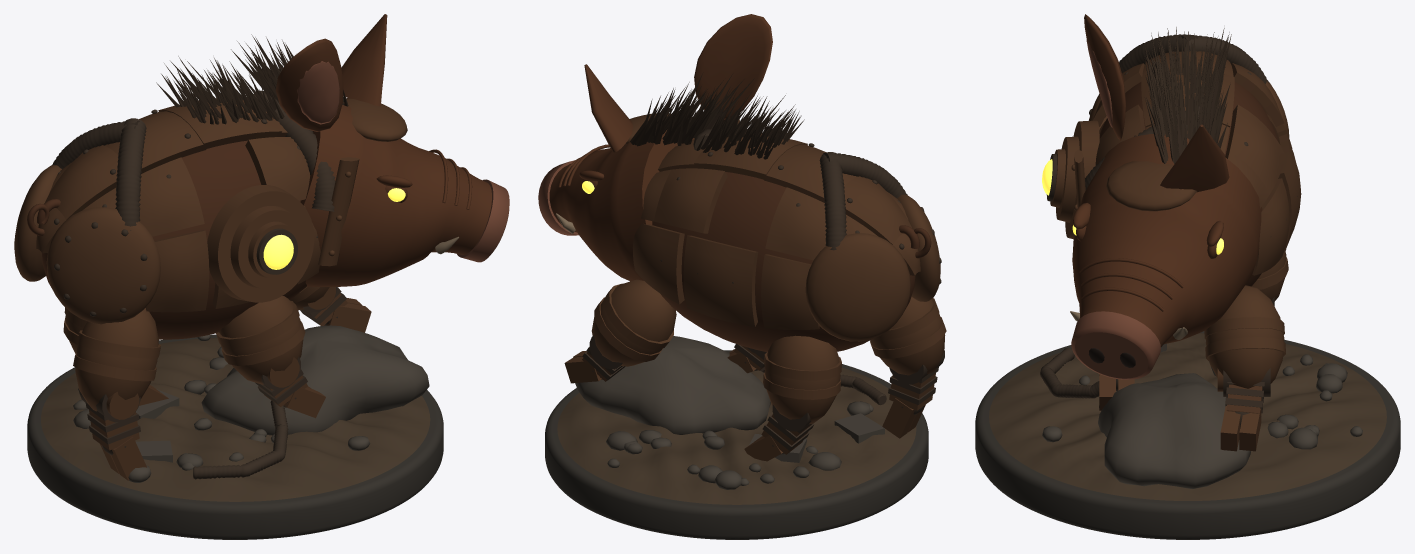
The picture shows the model from 3 angles, left to right: view 1: azimuth 30°, elevation 25°; view 2: azimuth 150°, elevation 25°; view 3: azimuth 270°, elevation 25°; orthographic projection. The views are drawn at different scales.
Parts seen in each view (by area): view 1: Base_Earth_Terrain, Back_And_Flank_Armor_Plates, Base_Round_Plinth, Boar_Head, Large_Rock_Under_Front_Legs, Rear_Haunch_Round_Plate, Flank_Core_Housing, Leg_Rear_Near_Armor, Boar_Body_Core, Leg_Front_Near_Armor, Corrugated_Body_Hoses, Bristle_Mane (+16 smaller); view 2: Back_And_Flank_Armor_Plates, Base_Earth_Terrain, Base_Round_Plinth, Large_Rock_Under_Front_Legs, Boar_Head, Rear_Haunch_Round_Plate_Far, Boar_Body_Core, Bristle_Mane, Leg_Rear_Far_Armor, Leg_Front_Far_Armor, Near_Ear, Leg_Rear_Near_Armor (+10 smaller); view 3: Base_Earth_Terrain, Boar_Head, Base_Round_Plinth, Large_Rock_Under_Front_Legs, Back_And_Flank_Armor_Plates, Leg_Front_Far_Armor, Bristle_Mane, Snout_Disc, Head_Armor_Plate_And_Strap, Base_Pebbles_And_Slabs, Flank_Core_Housing, Far_Ear_Pointed (+10 smaller).
Part boxes in pixels (x1,y1,x2,y2): Base_Earth_Terrain: [41, 337, 430, 501]; Back_And_Flank_Armor_Plates: [36, 98, 320, 312]; Base_Round_Plinth: [27, 334, 443, 539]; Boar_Head: [300, 102, 491, 286]; Large_Rock_Under_Front_Legs: [201, 325, 429, 435]; Rear_Haunch_Round_Plate: [46, 207, 160, 324]; Flank_Core_Housing: [207, 185, 314, 302]; Leg_Rear_Near_Armor: [73, 308, 160, 480]; Boar_Body_Core: [42, 140, 306, 339]; Leg_Front_Near_Armor: [216, 296, 325, 418]; Corrugated_Body_Hoses: [51, 90, 335, 230]; Bristle_Mane: [156, 34, 348, 124]; Back_And_Flank_Armor_Plates: [632, 133, 920, 329]; Base_Earth_Terrain: [557, 367, 916, 504]; Base_Round_Plinth: [545, 350, 928, 539]; Large_Rock_Under_Front_Legs: [575, 336, 770, 434]; Boar_Head: [549, 129, 694, 281]; Rear_Haunch_Round_Plate_Far: [805, 233, 910, 341]; Boar_Body_Core: [652, 172, 915, 351]; Bristle_Mane: [630, 72, 804, 159]; Leg_Rear_Far_Armor: [744, 335, 841, 461]; Leg_Front_Far_Armor: [564, 279, 676, 383]; Near_Ear: [694, 14, 772, 119]; Leg_Rear_Near_Armor: [870, 297, 946, 438]; Base_Earth_Terrain: [989, 333, 1386, 500]; Boar_Head: [1072, 134, 1262, 346]; Base_Round_Plinth: [975, 331, 1400, 539]; Large_Rock_Under_Front_Legs: [1098, 373, 1250, 488]; Back_And_Flank_Armor_Plates: [1092, 51, 1301, 275]; Leg_Front_Far_Armor: [1204, 285, 1285, 451]; Bristle_Mane: [1144, 27, 1231, 163]; Snout_Disc: [1071, 311, 1160, 379]; Head_Armor_Plate_And_Strap: [1071, 149, 1196, 211]; Base_Pebbles_And_Slabs: [1042, 343, 1362, 449]; Flank_Core_Housing: [1050, 120, 1099, 239]; Far_Ear_Pointed: [1160, 124, 1229, 192].
Size of the model in its own units: 1 by 0.9455 by 0.8082.
